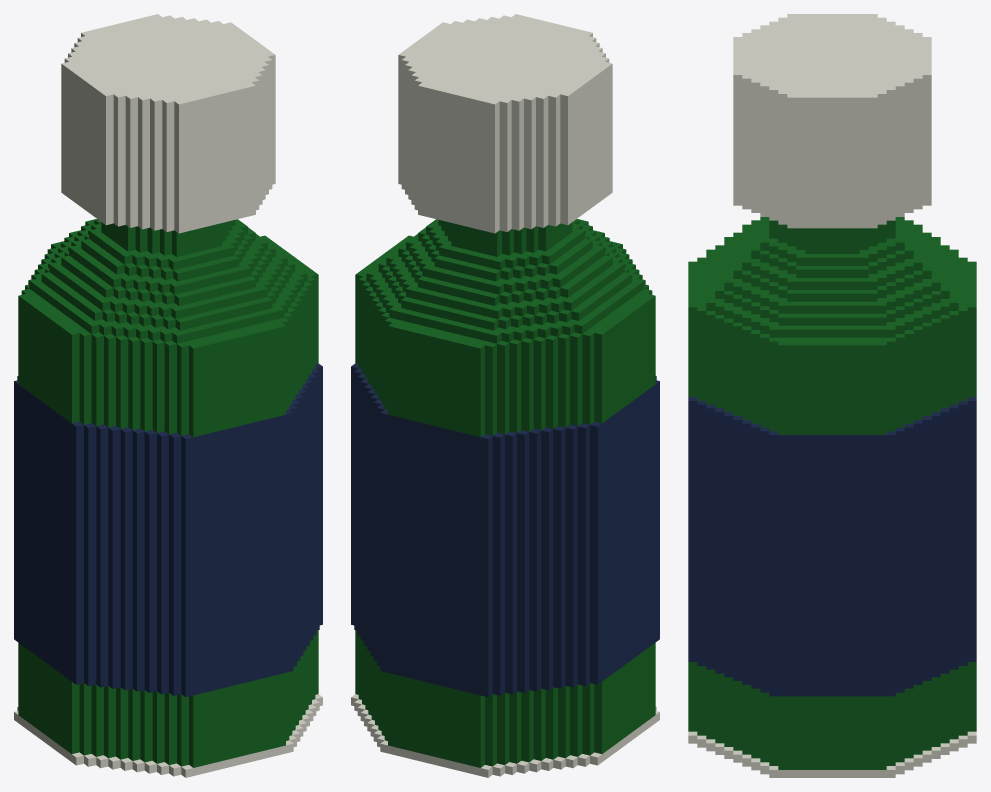
File: night_cough_syrup.glb
3 views of the same model, side by side, from view 1: azimuth 30°, elevation 25°; view 2: azimuth 150°, elevation 25°; view 3: azimuth 270°, elevation 25° (orthographic).
Parts seen in each view (by area): view 1: night_cough_syrup:vessel; view 2: night_cough_syrup:vessel; view 3: night_cough_syrup:vessel.
Boxes of the visible parts, x1=… form: night_cough_syrup:vessel: x1=14, y1=14, x2=322, y2=777; night_cough_syrup:vessel: x1=351, y1=14, x2=659, y2=777; night_cough_syrup:vessel: x1=688, y1=14, x2=976, y2=777.
Bounding box in the file's own units: 0.064 × 0.162 × 0.064.
